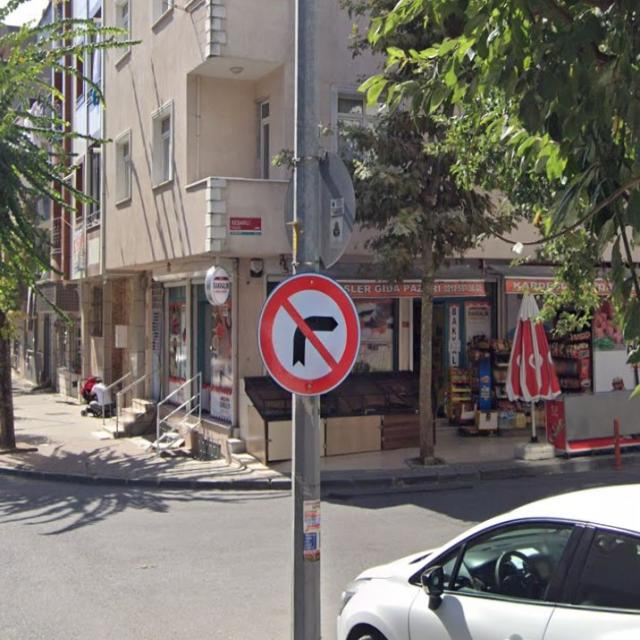sagadonulmez: (258, 272, 361, 394)
